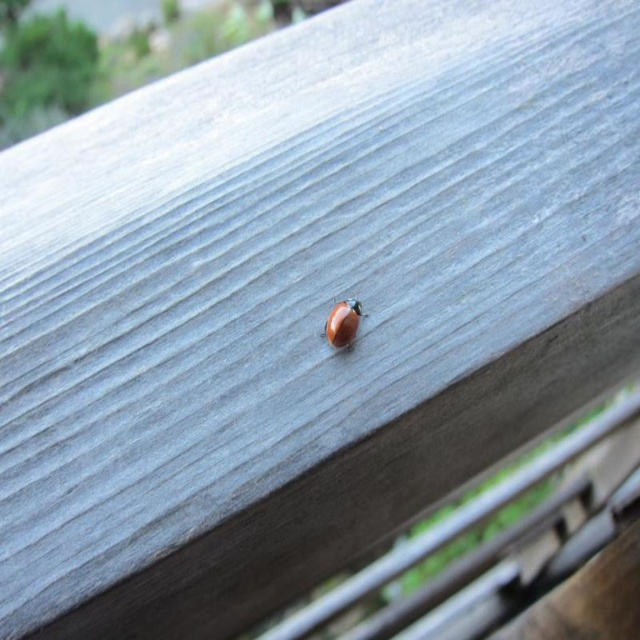Ladybug: (319, 292, 370, 352), (320, 295, 372, 352)
